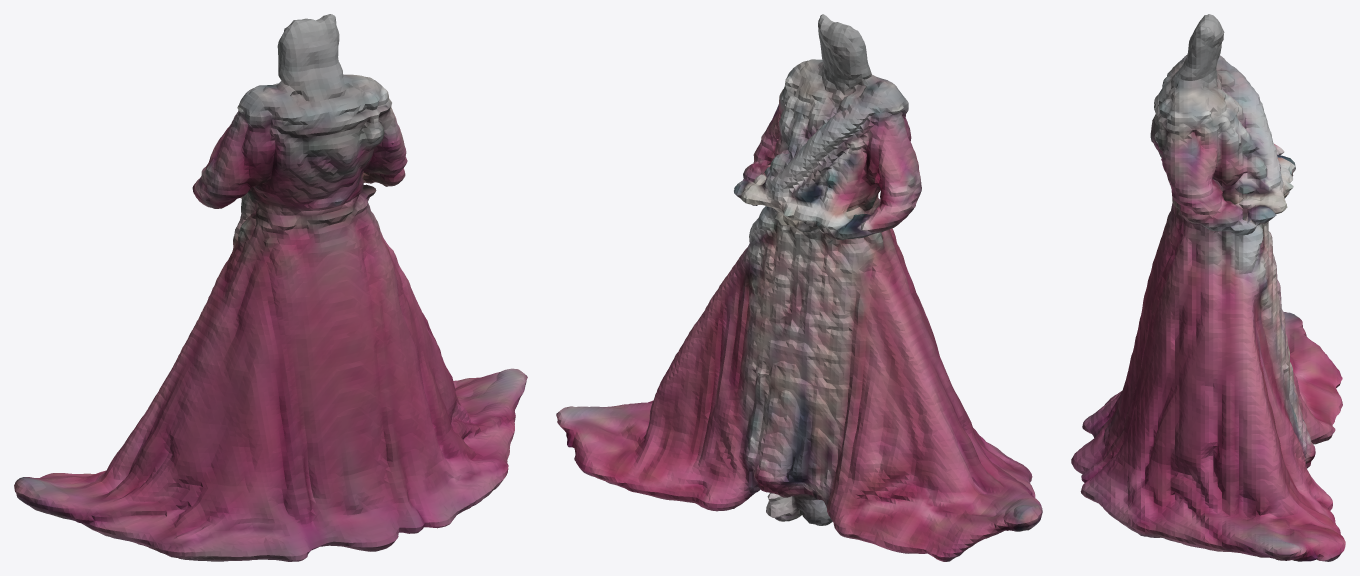
The model's file is gorontalo.glb.
The picture shows the model from 3 angles, left to right: view 1: azimuth 30°, elevation 25°; view 2: azimuth 150°, elevation 25°; view 3: azimuth 270°, elevation 25°; orthographic projection. The views are drawn at different scales.
Parts seen in each view (by area): view 1: world; view 2: world; view 3: world.
Part boxes in pixels (x1,y1,x2,y2): world: [14, 14, 527, 561]; world: [556, 14, 1042, 561]; world: [1071, 14, 1345, 561].
Bounding box in the file's own units: 0.8766 × 0.8561 × 0.4393.
